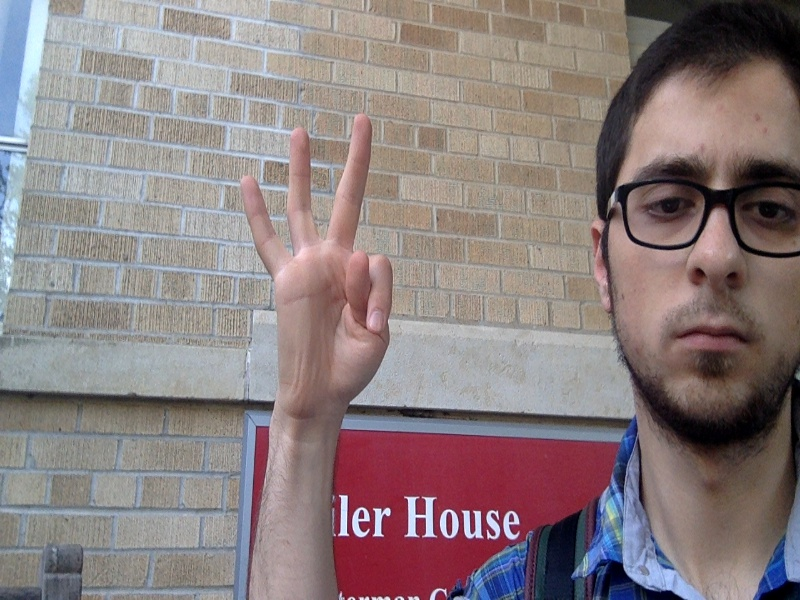3-hand: (238, 112, 394, 420)
